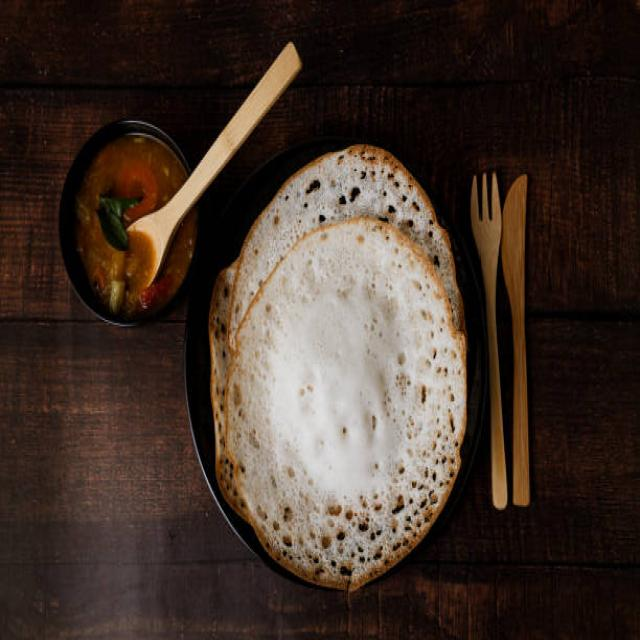AAPAM: (210, 153, 466, 582)
SAMBAR: (72, 136, 193, 308)
